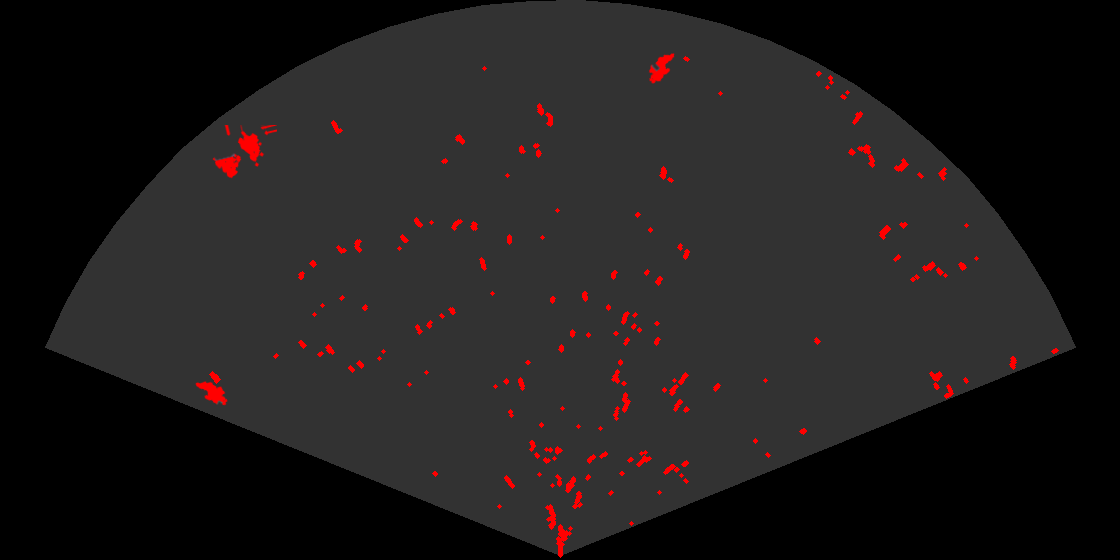AUV: (647, 51, 676, 85), (194, 380, 229, 407)
cage: (211, 125, 277, 180)
